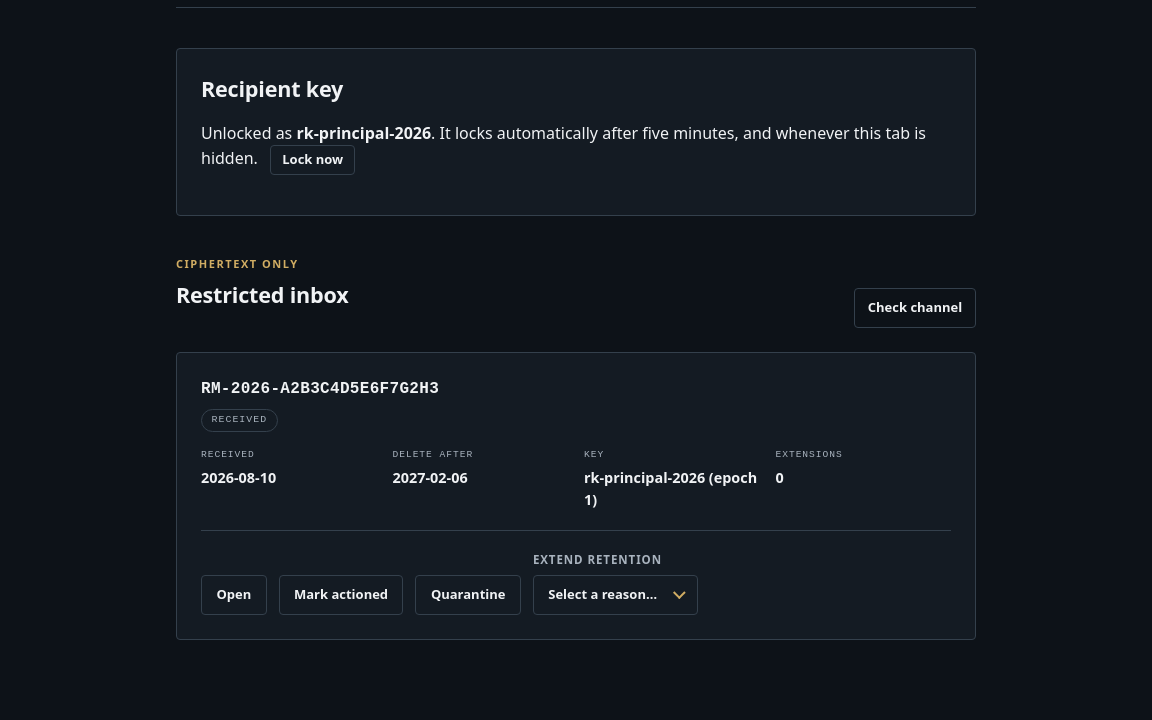
Test: RoomWorkspace › explains a key mismatch without exposing ciphertext
(page scrolled)
Check: the heading "RM-2026-A2B3C4D5E6F7G2H3" is shown, box [201,380,439,398]
Click the button "Open".
click(234, 595)  # box [201,575,267,615]
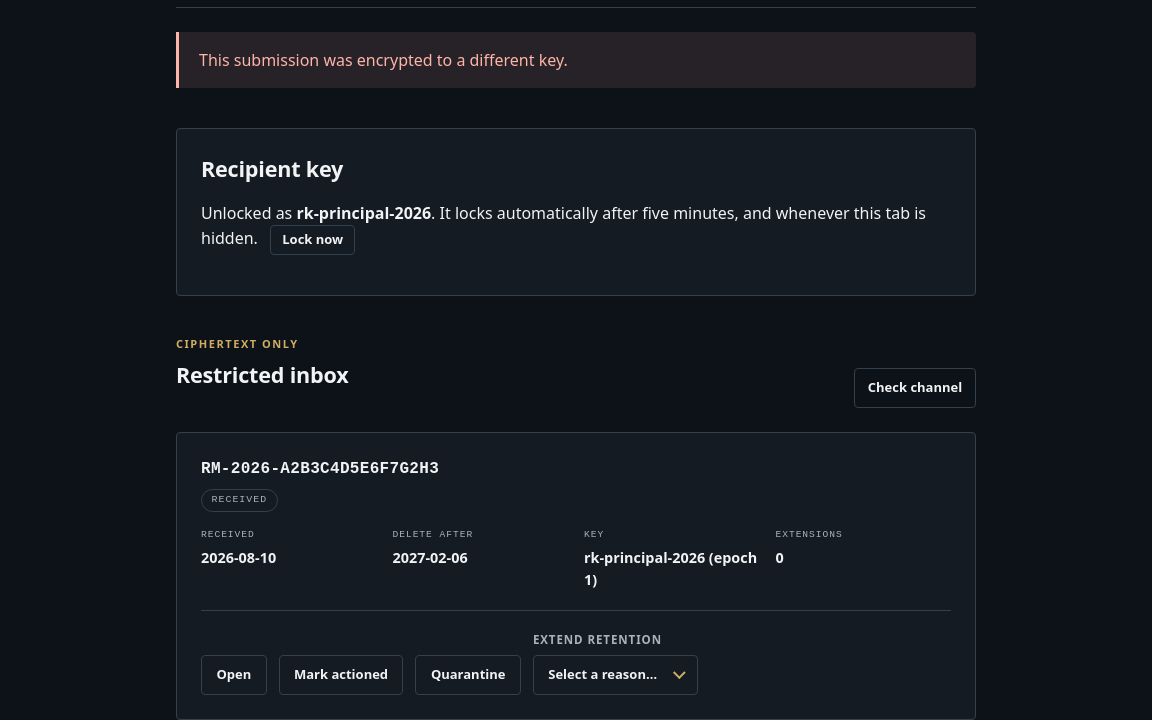
Check: the text "This submission was encrypted to a different key." is shown, box [176,32,976,88]
